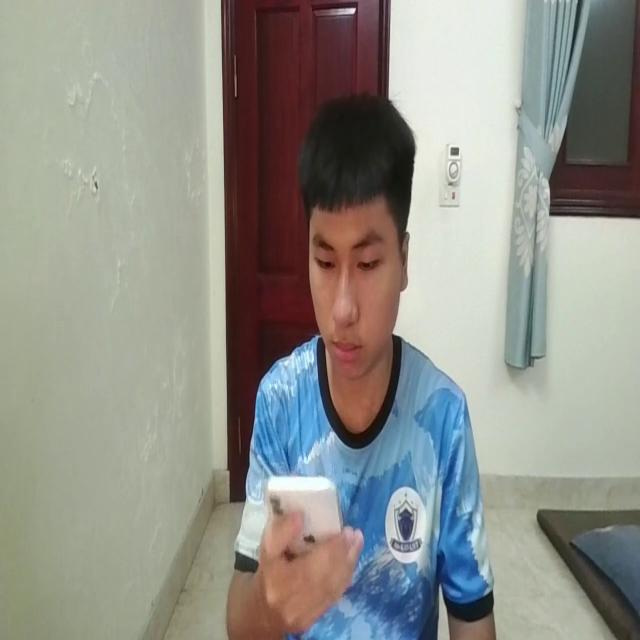phone: (260, 466, 350, 580)
student: (224, 83, 497, 640)
